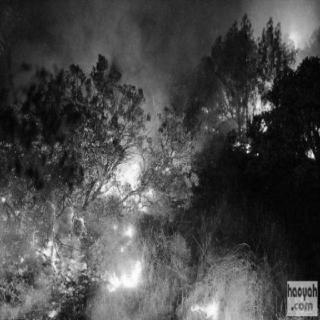Fire: (10, 107, 218, 315), (227, 70, 297, 170)
